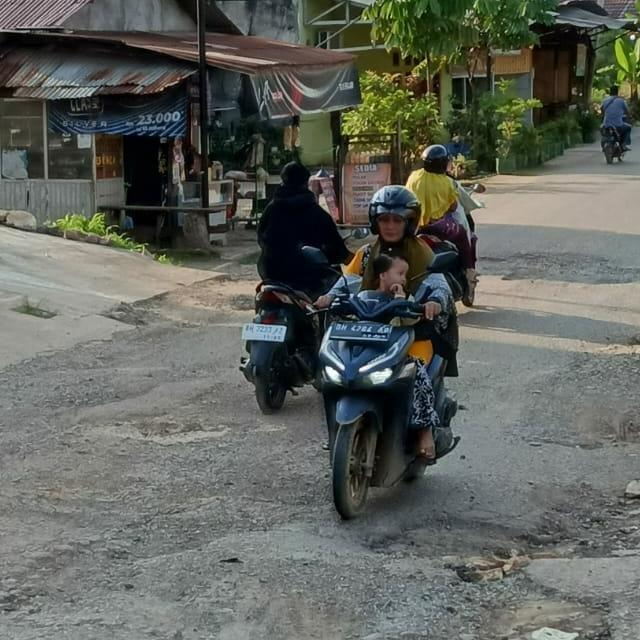lubang_kecil: (340, 580, 622, 640), (356, 512, 546, 598), (86, 402, 230, 456), (616, 312, 640, 368)
